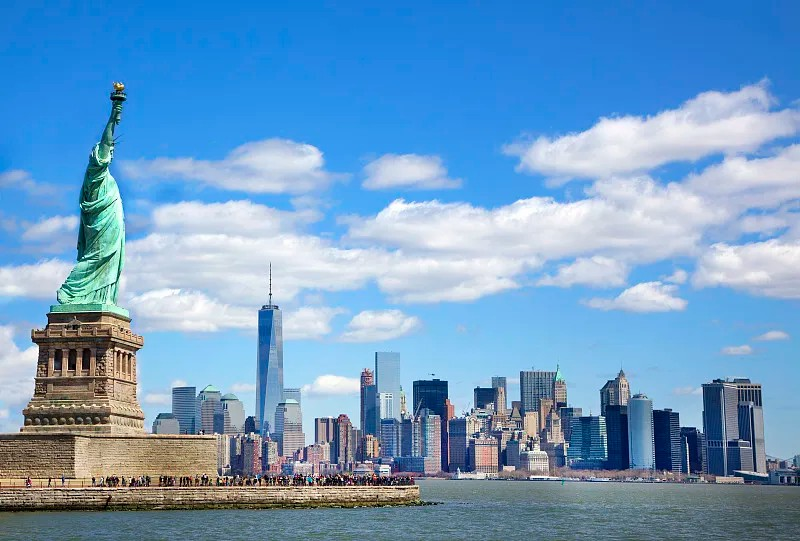SL: (23, 80, 145, 429)
